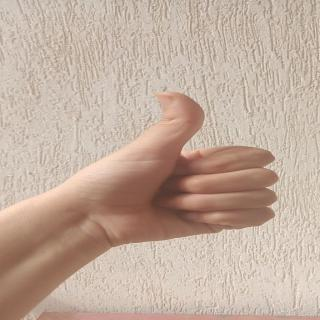ALIF: (46, 81, 311, 252)
